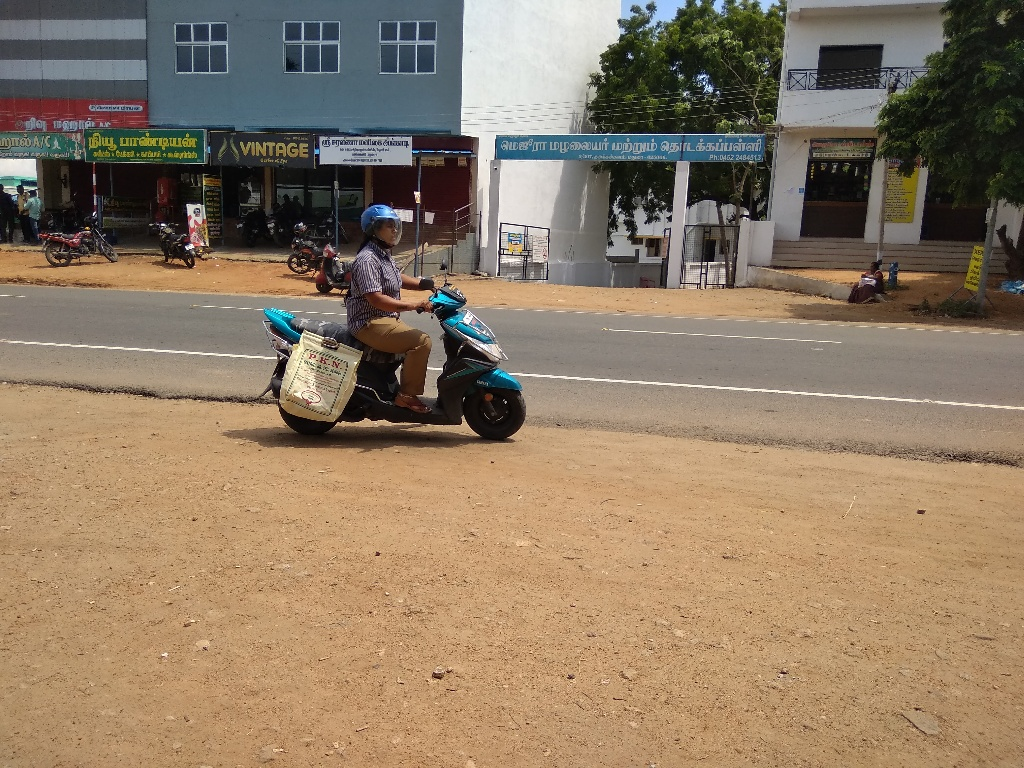biker: (249, 167, 549, 453)
helmet: (350, 191, 422, 259)
